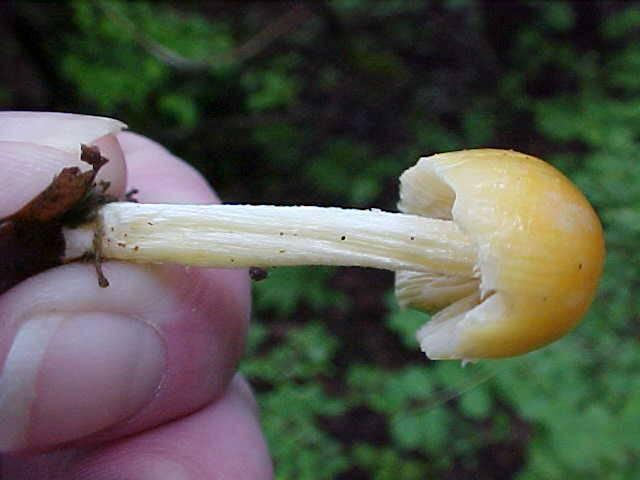Edible Mushroom: (52, 143, 606, 365)
